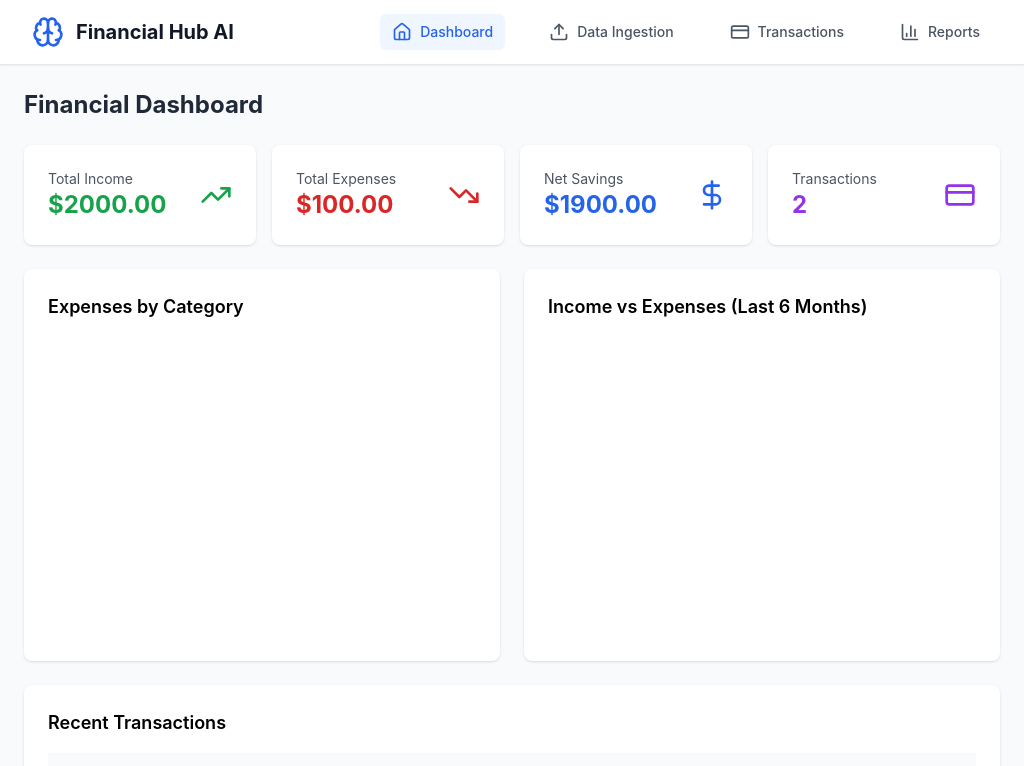
Test: App Component › handles tab switching correctly
Check: the heading "Financial Dashboard" is shown, box [24, 90, 263, 119]
Note: Switch to reports
Click the button "Reports": (940, 32) [888, 14, 992, 50]
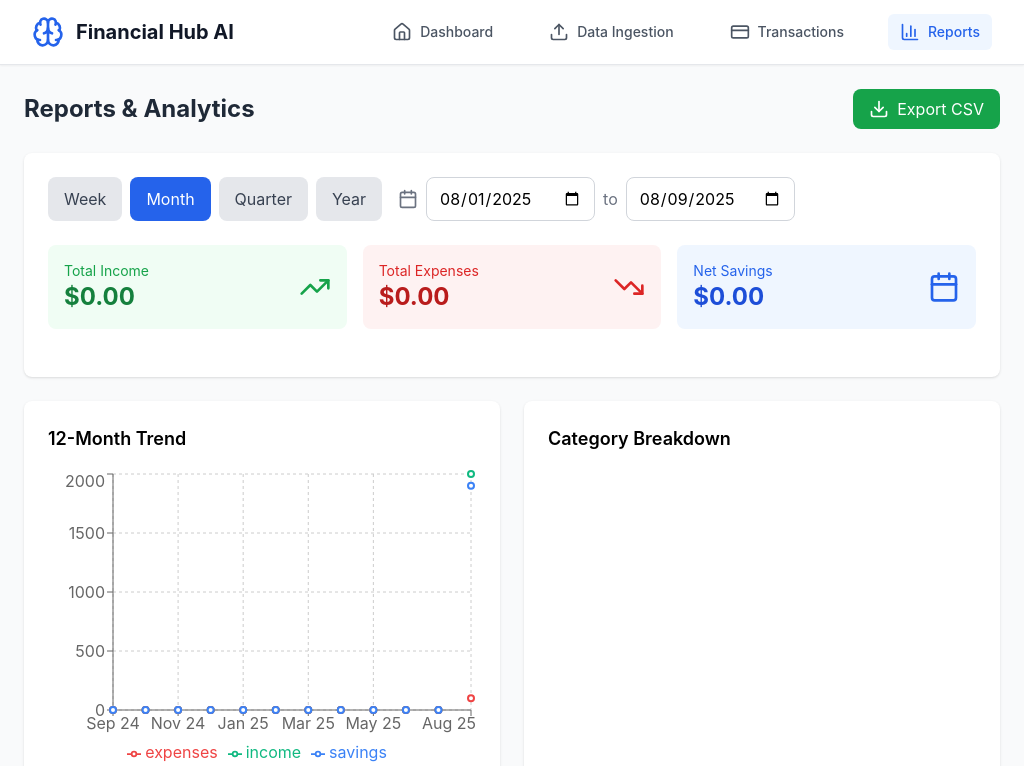
Check: the heading "Reports & Analytics" is shown, box [24, 93, 255, 125]
Note: Switch back to dashboard
Click the button "Dashboard": (443, 32) [380, 14, 505, 50]
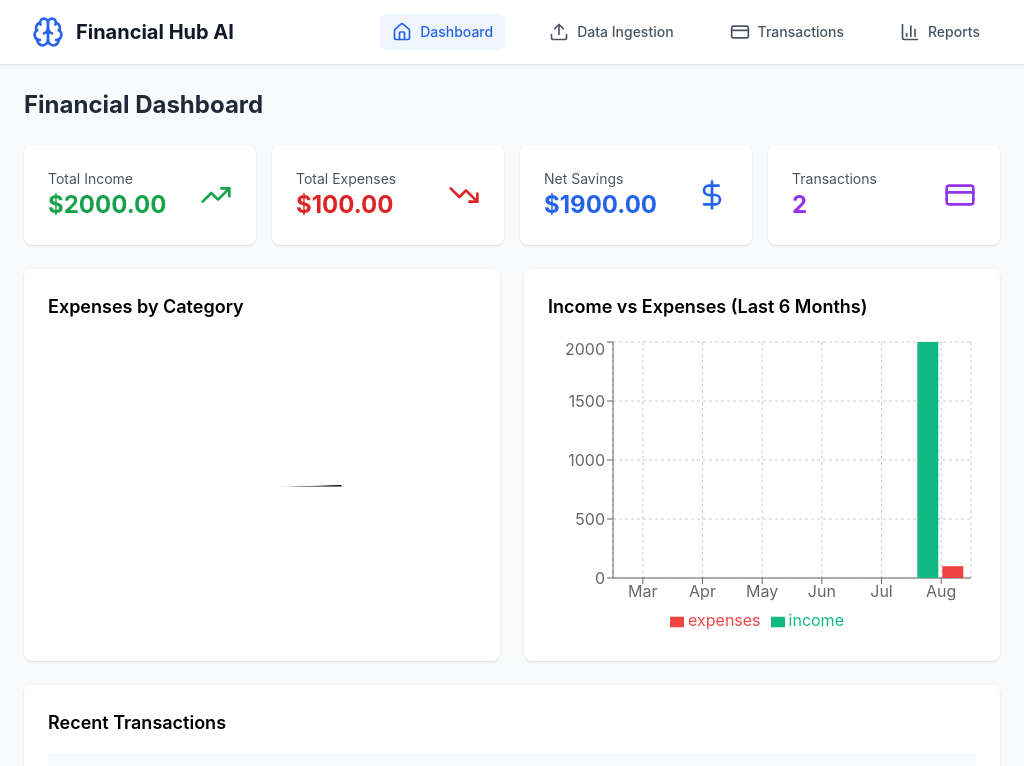
Check: the heading "Financial Dashboard" is shown, box [24, 90, 263, 119]
